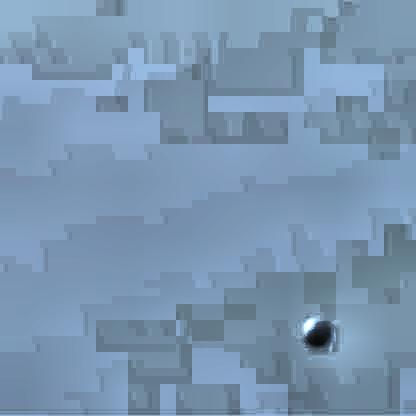golfball: (300, 311, 328, 342)
